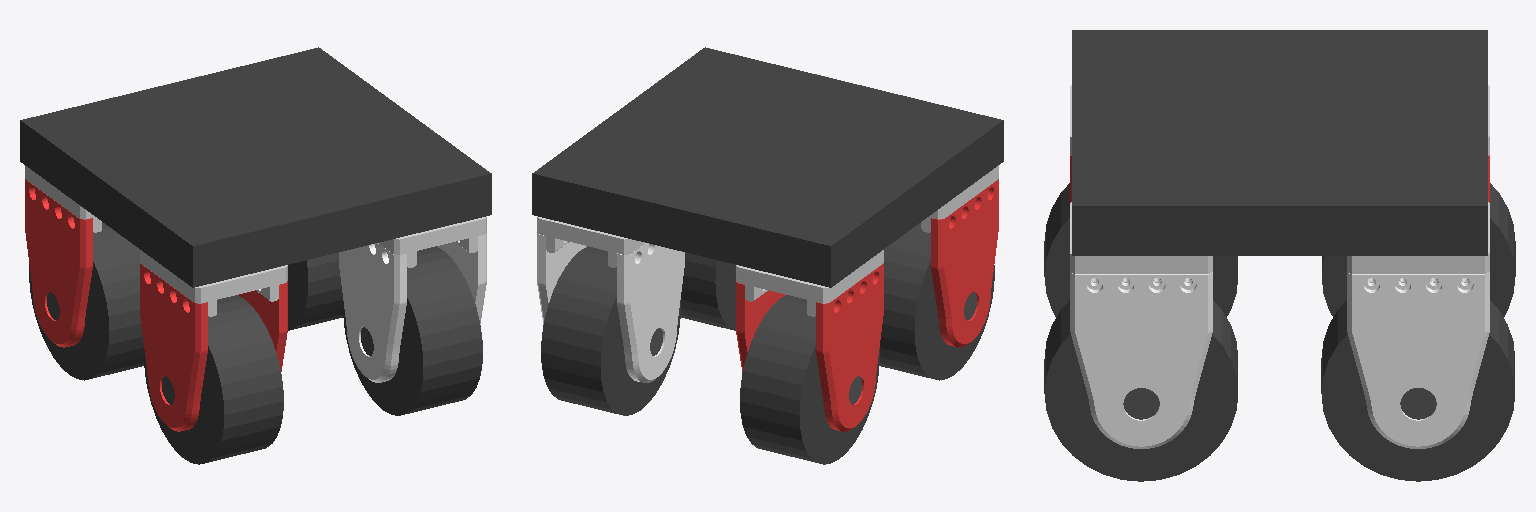
The robot description file, URDF, robot "Body":
<?xml version="1.0"?>
<robot name="Body">
    <link name="robot_base">
        <inertial>
            <origin xyz="0.471000 0.044000 0.110000" rpy="0.000003 3.141590 1.570802" />
            <inertia ixy="0.0" ixz="0.0" iyz="0.0" ixx="0.00042937508220319" izz="0.00084375011944212" iyy="0.00042937508220319" />
            <mass value="0.2250000089407" />
        </inertial>
        <collision name="Body">
            <origin xyz="0.471000 0.044000 0.110000" rpy="0.000003 3.141590 1.570802" />
            <geometry>
                <box size="0.150000 0.150000 0.020000" />
            </geometry>
        </collision>
        <visual name="Body">
            <origin xyz="0.471000 0.044000 0.110000" rpy="0.000003 3.141590 1.570802" />
            <geometry>
                <box size="0.150000 0.150000 0.020000" />
            </geometry>
            <material name="robot_base_material">
                <color rgba="0.310000 0.310000 0.310000 1.0" />
            </material>
        </visual>
    </link>
    <joint type="continuous" name="direction_joint">
        <axis xyz="0 0 1" />
        <parent link="robot_base" />
        <child link="wheel_cover" />
        <origin xyz="0.421000 0.094000 0.098500" rpy="3.141589 3.141594 -1.570817" />
    </joint>
    <link name="wheel_cover">
        <inertial>
            <origin xyz="0.000038 -0.000017 -0.017631" rpy="-3.141591 3.141649 1.570797" />
            <inertia ixy="-8.0121787156622e-09" ixz="-5.317599417882e-09" iyz="-1.6794693903706e-11" ixx="1.1977553358807e-05" izz="1.4427704011722e-05" iyy="8.2964219457032e-06" />
            <mass value="0.019436288625002" />
        </inertial>
        <collision name="wheel_cover">
            <origin xyz="0.000101 0.020624 -0.040796" rpy="-3.141318 3.141652 1.570807" />
            <geometry>
                <box size="0.005626 0.020000 0.065318" />
            </geometry>
        </collision>
        <collision name="wheel_cover">
            <origin xyz="0.000101 -0.020719 -0.040794" rpy="-3.141318 3.141652 1.570807" />
            <geometry>
                <box size="0.005626 0.020000 0.065318" />
            </geometry>
        </collision>
        <collision name="wheel_cover">
            <origin xyz="0.000000 0.000001 -0.003548" rpy="-2.387357 4.712309 -0.754235" />
            <geometry>
                <box size="0.010001 0.046877 0.051564" />
            </geometry>
        </collision>
        <visual name="wheel_cover_visual">
            <origin xyz="0.000047 -0.000048 -0.038000" rpy="-3.141591 3.141640 1.570797" />
            <geometry>
                <mesh filename="./swerve_wheel_wheel_cover_visual_vis_1.dae" />
            </geometry>
            <material name="wheel_cover_visual_material">
                <color rgba="1.000000 0.300000 0.300000 1.0" />
            </material>
        </visual>
        <visual name="wheel_cover_visual">
            <origin xyz="0.000047 -0.000048 -0.038000" rpy="-3.141591 3.141640 1.570797" />
            <geometry>
                <mesh filename="./swerve_wheel_wheel_cover_visual_vis_2.dae" />
            </geometry>
            <material name="wheel_cover_visual_material">
                <color rgba="0.900000 0.900000 0.900000 1.0" />
            </material>
        </visual>
        <visual name="wheel_cover_visual">
            <origin xyz="0.000047 -0.000048 -0.038000" rpy="-3.141591 3.141640 1.570797" />
            <geometry>
                <mesh filename="./swerve_wheel_wheel_cover_visual_vis_3.dae" />
            </geometry>
            <material name="wheel_cover_visual_material">
                <color rgba="1.000000 0.300000 0.300000 1.0" />
            </material>
        </visual>
        <visual name="shaft_visual">
            <origin xyz="0.000049 -0.000048 -0.058000" rpy="-1.570851 3.141651 -3.141592" />
            <geometry>
                <mesh filename="./swerve_wheel_shaft_visual_vis_1.dae" />
            </geometry>
            <material name="shaft_visual_material">
                <color rgba="0.394118 0.394118 0.394118 1.0" />
            </material>
        </visual>
    </link>
    <joint type="continuous" name="driven_joint">
        <axis xyz="0 0 1" />
        <parent link="wheel_cover" />
        <child link="magnet_wheel" />
        <origin xyz="0.000049 -0.000048 -0.058000" rpy="-1.570742 3.141534 0.000001" />
    </joint>
    <link name="magnet_wheel">
        <inertial>
            <origin xyz="-0.000000 0.000000 0.000000" rpy="0.000000 3.141593 0.000001" />
            <inertia ixy="1.9433376286295e-22" ixz="1.8070109297079e-17" iyz="6.0547485942873e-16" ixx="2.175467758953e-05" izz="3.4905877084869e-05" iyy="2.175467758953e-05" />
            <mass value="0.057356551289558" />
        </inertial>
        <collision name="magnet_wheel">
            <origin xyz="-0.000000 0.000000 0.000000" rpy="0.000000 3.141593 0.000001" />
            <geometry>
                <cylinder length="0.029999999329448" radius="0.035000000149012" />
            </geometry>
        </collision>
        <visual name="magnet_wheel">
            <origin xyz="-0.000000 0.000000 0.000000" rpy="0.000000 3.141593 0.000001" />
            <geometry>
                <cylinder length="0.029999999329448" radius="0.035000000149012" />
            </geometry>
            <material name="magnet_wheel_material">
                <color rgba="0.340000 0.340000 0.340000 1.0" />
            </material>
        </visual>
    </link>
    <joint type="continuous" name="direction_joint_2">
        <axis xyz="0 0 1" />
        <parent link="robot_base" />
        <child link="wheel_cover_2" />
        <origin xyz="0.421002 -0.005998 0.098500" rpy="3.141589 3.141594 -1.570817" />
    </joint>
    <link name="wheel_cover_2">
        <inertial>
            <origin xyz="0.000038 -0.000017 -0.017631" rpy="-3.141591 3.141649 1.570797" />
            <inertia ixy="-8.0121787156622e-09" ixz="-5.317599417882e-09" iyz="-1.6794693903706e-11" ixx="1.1977553358807e-05" izz="1.4427704011722e-05" iyy="8.2964219457032e-06" />
            <mass value="0.019436288625002" />
        </inertial>
        <collision name="wheel_cover">
            <origin xyz="0.000101 0.020624 -0.040796" rpy="-3.141318 3.141652 1.570807" />
            <geometry>
                <box size="0.005626 0.020000 0.065318" />
            </geometry>
        </collision>
        <collision name="wheel_cover">
            <origin xyz="0.000101 -0.020719 -0.040794" rpy="-3.141318 3.141652 1.570807" />
            <geometry>
                <box size="0.005626 0.020000 0.065318" />
            </geometry>
        </collision>
        <collision name="wheel_cover">
            <origin xyz="0.000000 0.000001 -0.003548" rpy="-2.387357 4.712309 -0.754235" />
            <geometry>
                <box size="0.010001 0.046877 0.051564" />
            </geometry>
        </collision>
        <visual name="wheel_cover_visual">
            <origin xyz="0.000047 -0.000048 -0.038000" rpy="-3.141591 3.141640 1.570797" />
            <geometry>
                <mesh filename="./swerve_wheel_wheel_cover_visual_2_vis_1.dae" />
            </geometry>
            <material name="wheel_cover_visual_2_material">
                <color rgba="1.000000 0.300000 0.300000 1.0" />
            </material>
        </visual>
        <visual name="wheel_cover_visual">
            <origin xyz="0.000047 -0.000048 -0.038000" rpy="-3.141591 3.141640 1.570797" />
            <geometry>
                <mesh filename="./swerve_wheel_wheel_cover_visual_2_vis_2.dae" />
            </geometry>
            <material name="wheel_cover_visual_2_material">
                <color rgba="0.900000 0.900000 0.900000 1.0" />
            </material>
        </visual>
        <visual name="wheel_cover_visual">
            <origin xyz="0.000047 -0.000048 -0.038000" rpy="-3.141591 3.141640 1.570797" />
            <geometry>
                <mesh filename="./swerve_wheel_wheel_cover_visual_2_vis_3.dae" />
            </geometry>
            <material name="wheel_cover_visual_2_material">
                <color rgba="1.000000 0.300000 0.300000 1.0" />
            </material>
        </visual>
        <visual name="shaft_visual">
            <origin xyz="0.000049 -0.000048 -0.058000" rpy="-1.570851 3.141651 -3.141592" />
            <geometry>
                <mesh filename="./swerve_wheel_shaft_visual_2_vis_1.dae" />
            </geometry>
            <material name="shaft_visual_2_material">
                <color rgba="0.394118 0.394118 0.394118 1.0" />
            </material>
        </visual>
    </link>
    <joint type="continuous" name="driven_joint_2">
        <axis xyz="0 0 1" />
        <parent link="wheel_cover_2" />
        <child link="magnet_wheel_2" />
        <origin xyz="0.000049 -0.000048 -0.058000" rpy="-1.570742 3.141534 0.000001" />
    </joint>
    <link name="magnet_wheel_2">
        <inertial>
            <origin xyz="-0.000000 0.000000 0.000000" rpy="0.000000 3.141593 0.000000" />
            <inertia ixy="-5.1796319770041e-13" ixz="9.7387222573974e-17" iyz="-1.2321564264132e-15" ixx="2.1754679084882e-05" izz="3.4905879351995e-05" iyy="2.1754682258688e-05" />
            <mass value="0.057356555014849" />
        </inertial>
        <collision name="magnet_wheel">
            <origin xyz="-0.000000 0.000000 0.000000" rpy="0.000000 3.141593 0.000000" />
            <geometry>
                <cylinder length="0.030000001192093" radius="0.035000000149012" />
            </geometry>
        </collision>
        <visual name="magnet_wheel">
            <origin xyz="-0.000000 0.000000 0.000000" rpy="0.000000 3.141593 0.000000" />
            <geometry>
                <cylinder length="0.030000001192093" radius="0.035000000149012" />
            </geometry>
            <material name="magnet_wheel_2_material">
                <color rgba="0.340000 0.340000 0.340000 1.0" />
            </material>
        </visual>
    </link>
    <joint type="continuous" name="direction_joint_3">
        <axis xyz="0 0 1" />
        <parent link="robot_base" />
        <child link="wheel_cover_3" />
        <origin xyz="0.521000 0.094001 0.098500" rpy="3.141589 3.141594 -1.570817" />
    </joint>
    <link name="wheel_cover_3">
        <inertial>
            <origin xyz="0.000038 0.000030 -0.017631" rpy="-3.141591 3.141649 1.570797" />
            <inertia ixy="-8.0121787156622e-09" ixz="-5.317599417882e-09" iyz="-1.6794693903706e-11" ixx="1.1977553358807e-05" izz="1.4427704011722e-05" iyy="8.2964219457032e-06" />
            <mass value="0.019436288625002" />
        </inertial>
        <collision name="wheel_cover">
            <origin xyz="0.000101 0.020671 -0.040796" rpy="-3.141318 3.141652 1.570807" />
            <geometry>
                <box size="0.005626 0.020000 0.065318" />
            </geometry>
        </collision>
        <collision name="wheel_cover">
            <origin xyz="0.000101 -0.020672 -0.040794" rpy="-3.141318 3.141652 1.570807" />
            <geometry>
                <box size="0.005626 0.020000 0.065318" />
            </geometry>
        </collision>
        <collision name="wheel_cover">
            <origin xyz="-0.000000 0.000048 -0.003548" rpy="-2.387357 4.712309 -0.754235" />
            <geometry>
                <box size="0.010001 0.046877 0.051564" />
            </geometry>
        </collision>
        <visual name="wheel_cover_visual">
            <origin xyz="0.000000 -0.000000 -0.038000" rpy="-3.141591 3.141640 1.570797" />
            <geometry>
                <mesh filename="./swerve_wheel_wheel_cover_visual_3_vis_1.dae" />
            </geometry>
            <material name="wheel_cover_visual_3_material">
                <color rgba="1.000000 1.000000 1.000000 1.0" />
            </material>
        </visual>
        <visual name="wheel_cover_visual">
            <origin xyz="0.000000 -0.000000 -0.038000" rpy="-3.141591 3.141640 1.570797" />
            <geometry>
                <mesh filename="./swerve_wheel_wheel_cover_visual_3_vis_2.dae" />
            </geometry>
            <material name="wheel_cover_visual_3_material">
                <color rgba="0.900000 0.900000 0.900000 1.0" />
            </material>
        </visual>
        <visual name="wheel_cover_visual">
            <origin xyz="0.000000 -0.000000 -0.038000" rpy="-3.141591 3.141640 1.570797" />
            <geometry>
                <mesh filename="./swerve_wheel_wheel_cover_visual_3_vis_3.dae" />
            </geometry>
            <material name="wheel_cover_visual_3_material">
                <color rgba="1.000000 1.000000 1.000000 1.0" />
            </material>
        </visual>
        <visual name="shaft_visual">
            <origin xyz="0.000000 -0.000000 -0.058000" rpy="-1.570851 3.141651 -3.141592" />
            <geometry>
                <mesh filename="./swerve_wheel_shaft_visual_3_vis_1.dae" />
            </geometry>
            <material name="shaft_visual_3_material">
                <color rgba="0.394118 0.394118 0.394118 1.0" />
            </material>
        </visual>
    </link>
    <joint type="continuous" name="driven_joint_3">
        <axis xyz="0 0 1" />
        <parent link="wheel_cover_3" />
        <child link="magnet_wheel_3" />
        <origin xyz="0.000000 -0.000000 -0.058000" rpy="-1.570741 3.141534 0.000001" />
    </joint>
    <link name="magnet_wheel_3">
        <inertial>
            <origin xyz="0.000000 0.000000 -0.000000" rpy="-0.000000 3.141593 0.000001" />
            <inertia ixy="-5.1796319770041e-13" ixz="9.7387222573974e-17" iyz="-1.2321564264132e-15" ixx="2.1754679084882e-05" izz="3.4905879351995e-05" iyy="2.1754682258688e-05" />
            <mass value="0.057356555014849" />
        </inertial>
        <collision name="magnet_wheel">
            <origin xyz="0.000000 0.000000 -0.000000" rpy="-0.000000 3.141593 0.000001" />
            <geometry>
                <cylinder length="0.030000001192093" radius="0.035000000149012" />
            </geometry>
        </collision>
        <visual name="magnet_wheel">
            <origin xyz="0.000000 0.000000 -0.000000" rpy="-0.000000 3.141593 0.000001" />
            <geometry>
                <cylinder length="0.030000001192093" radius="0.035000000149012" />
            </geometry>
            <material name="magnet_wheel_3_material">
                <color rgba="0.340000 0.340000 0.340000 1.0" />
            </material>
        </visual>
    </link>
    <joint type="continuous" name="direction_joint_4">
        <axis xyz="0 0 1" />
        <parent link="robot_base" />
        <child link="wheel_cover_4" />
        <origin xyz="0.520999 -0.005998 0.098500" rpy="3.141589 3.141594 -1.570817" />
    </joint>
    <link name="wheel_cover_4">
        <inertial>
            <origin xyz="0.000038 -0.000017 -0.017631" rpy="-3.141591 3.141649 1.570797" />
            <inertia ixy="-8.0121787156622e-09" ixz="-5.317599417882e-09" iyz="-1.6794693903706e-11" ixx="1.1977553358807e-05" izz="1.4427704011722e-05" iyy="8.2964219457032e-06" />
            <mass value="0.019436288625002" />
        </inertial>
        <collision name="wheel_cover">
            <origin xyz="0.000101 0.020624 -0.040796" rpy="-3.141318 3.141652 1.570807" />
            <geometry>
                <box size="0.005626 0.020000 0.065318" />
            </geometry>
        </collision>
        <collision name="wheel_cover">
            <origin xyz="0.000101 -0.020719 -0.040794" rpy="-3.141318 3.141652 1.570807" />
            <geometry>
                <box size="0.005626 0.020000 0.065318" />
            </geometry>
        </collision>
        <collision name="wheel_cover">
            <origin xyz="0.000000 0.000001 -0.003548" rpy="-2.387357 4.712309 -0.754235" />
            <geometry>
                <box size="0.010001 0.046877 0.051564" />
            </geometry>
        </collision>
        <visual name="wheel_cover_visual">
            <origin xyz="0.000047 -0.000048 -0.038000" rpy="-3.141591 3.141640 1.570797" />
            <geometry>
                <mesh filename="./swerve_wheel_wheel_cover_visual_4_vis_1.dae" />
            </geometry>
            <material name="wheel_cover_visual_4_material">
                <color rgba="1.000000 1.000000 1.000000 1.0" />
            </material>
        </visual>
        <visual name="wheel_cover_visual">
            <origin xyz="0.000047 -0.000048 -0.038000" rpy="-3.141591 3.141640 1.570797" />
            <geometry>
                <mesh filename="./swerve_wheel_wheel_cover_visual_4_vis_2.dae" />
            </geometry>
            <material name="wheel_cover_visual_4_material">
                <color rgba="0.900000 0.900000 0.900000 1.0" />
            </material>
        </visual>
        <visual name="wheel_cover_visual">
            <origin xyz="0.000047 -0.000048 -0.038000" rpy="-3.141591 3.141640 1.570797" />
            <geometry>
                <mesh filename="./swerve_wheel_wheel_cover_visual_4_vis_3.dae" />
            </geometry>
            <material name="wheel_cover_visual_4_material">
                <color rgba="1.000000 1.000000 1.000000 1.0" />
            </material>
        </visual>
        <visual name="shaft_visual">
            <origin xyz="0.000049 -0.000048 -0.058000" rpy="-1.570851 3.141651 -3.141592" />
            <geometry>
                <mesh filename="./swerve_wheel_shaft_visual_4_vis_1.dae" />
            </geometry>
            <material name="shaft_visual_4_material">
                <color rgba="0.394118 0.394118 0.394118 1.0" />
            </material>
        </visual>
    </link>
    <joint type="continuous" name="driven_joint_4">
        <axis xyz="0 0 1" />
        <parent link="wheel_cover_4" />
        <child link="magnet_wheel_4" />
        <origin xyz="0.000049 -0.000048 -0.058000" rpy="-1.570742 3.141534 0.000001" />
    </joint>
    <link name="magnet_wheel_4">
        <inertial>
            <origin xyz="0.000000 0.000000 0.000000" rpy="-0.000000 3.141593 0.000000" />
            <inertia ixy="-5.1796319770041e-13" ixz="9.7387222573974e-17" iyz="-1.2321564264132e-15" ixx="2.1754679084882e-05" izz="3.4905879351995e-05" iyy="2.1754682258688e-05" />
            <mass value="0.057356555014849" />
        </inertial>
        <collision name="magnet_wheel">
            <origin xyz="0.000000 -0.000000 0.000000" rpy="-0.000000 3.141593 0.000000" />
            <geometry>
                <cylinder length="0.030000001192093" radius="0.035000000149012" />
            </geometry>
        </collision>
        <visual name="magnet_wheel">
            <origin xyz="0.000000 -0.000000 0.000000" rpy="-0.000000 3.141593 0.000000" />
            <geometry>
                <cylinder length="0.030000001192093" radius="0.035000000149012" />
            </geometry>
            <material name="magnet_wheel_4_material">
                <color rgba="0.340000 0.340000 0.340000 1.0" />
            </material>
        </visual>
    </link>
</robot>

--- What the picture shows (computed from the rendered views, not written in the file) ---
Views: 3 orthographic renders of the robot side by side, from view 1: azimuth 30°, elevation 25°; view 2: azimuth 150°, elevation 25°; view 3: azimuth 270°, elevation 25°.
Robot: Body — 9 links, 8 joints (8 continuous); root link robot_base; default pose: all joints at 0.
Visible links, largest first — view 1: robot_base, wheel_cover_2, magnet_wheel_2, magnet_wheel_4, wheel_cover_4, wheel_cover, magnet_wheel, magnet_wheel_3; view 2: robot_base, wheel_cover, magnet_wheel, magnet_wheel_3, wheel_cover_3, wheel_cover_2, magnet_wheel_2, magnet_wheel_4; view 3: robot_base, wheel_cover_4, wheel_cover_3, magnet_wheel_3, magnet_wheel_4, magnet_wheel_2, magnet_wheel.
Link boxes in pixels (box(x1,y1,x2,y2)): robot_base: box(20, 47, 491, 287); wheel_cover_2: box(140, 250, 287, 431); magnet_wheel_2: box(144, 295, 283, 464); magnet_wheel_4: box(343, 246, 482, 415); wheel_cover_4: box(339, 216, 486, 382); wheel_cover: box(25, 166, 101, 347); magnet_wheel: box(29, 222, 143, 380); magnet_wheel_3: box(288, 253, 342, 330); robot_base: box(532, 47, 1003, 287); wheel_cover: box(736, 250, 883, 431); magnet_wheel: box(740, 295, 879, 464); magnet_wheel_3: box(541, 246, 680, 415); wheel_cover_3: box(537, 216, 684, 382); wheel_cover_2: box(921, 165, 998, 347); magnet_wheel_2: box(880, 223, 994, 380); magnet_wheel_4: box(681, 252, 735, 330); robot_base: box(1072, 30, 1487, 255); wheel_cover_4: box(1070, 202, 1212, 448); wheel_cover_3: box(1347, 202, 1489, 448); magnet_wheel_3: box(1321, 300, 1514, 481); magnet_wheel_4: box(1044, 300, 1237, 481); magnet_wheel_2: box(1044, 183, 1237, 316); magnet_wheel: box(1322, 183, 1515, 316).
Size in the robot's own frame: 0.15 by 0.17 by 0.1145 metres.
16 mesh visuals loaded from 16 distinct referenced files (16 Collada DAE).